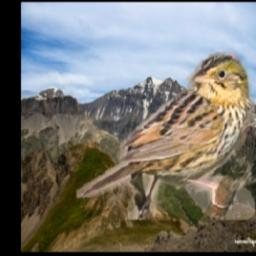Sparrow: (75, 52, 254, 220)
